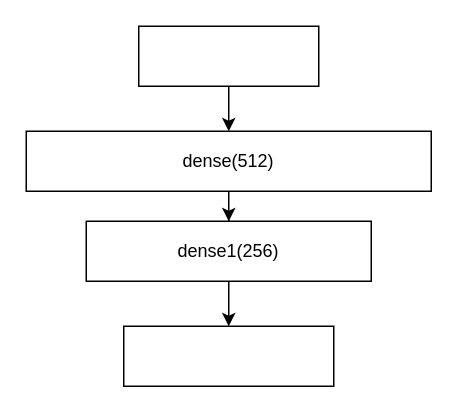
This 458x413 diagram has some shape labels left out. Here are the shapes that lost their labels. From the top down, the centre of each, then its label:
the point at 228,55: flatten(384)
the point at 228,355: dense2(2*N_x*N_y*(t+1)) 96
